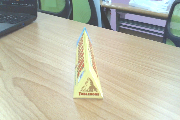Chocolate: (65, 21, 108, 107)
